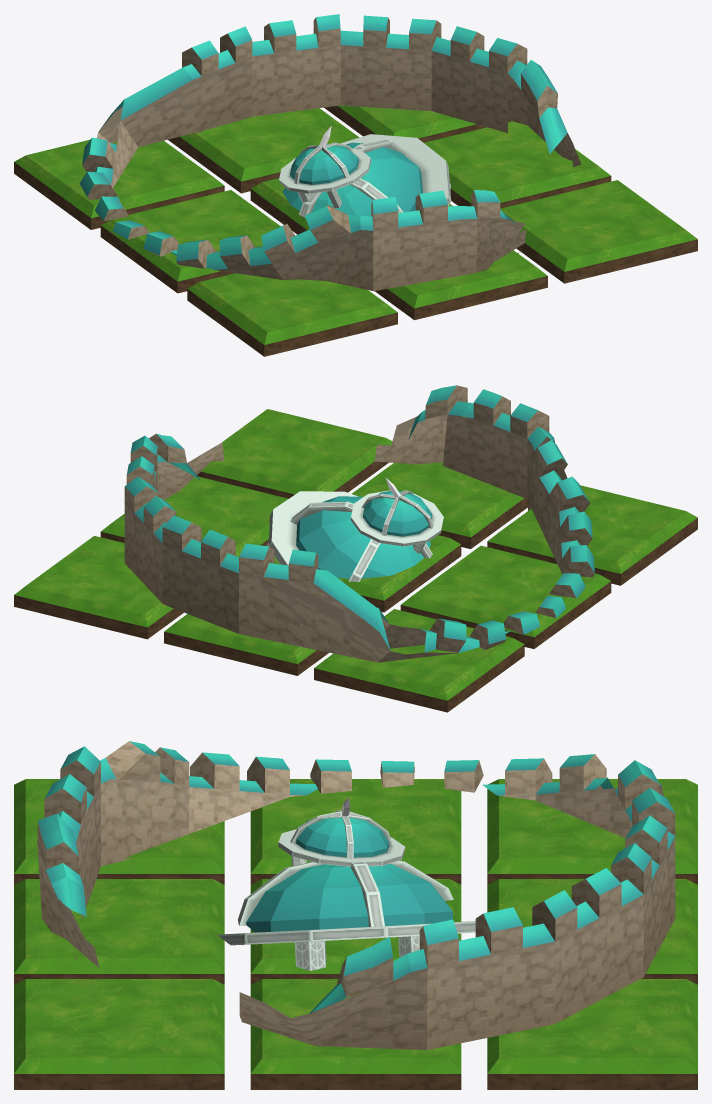
Rendered from Ruins.fbx.
3 renders of one model, top to bottom at view 1: azimuth 30°, elevation 25°; view 2: azimuth 150°, elevation 25°; view 3: azimuth 270°, elevation 25°, orthographic. The views are drawn at different scales.
Parts seen in each view (by area): view 1: Ruins, LargeGrass7, LargeGrass1, LargeGrass8, LargeGrass3, LargeGrass6, LargeGrass2, LargeGrass4, LargeGrass9, LargeGrass5; view 2: Ruins, LargeGrass7, LargeGrass2, LargeGrass9, LargeGrass3, LargeGrass1, LargeGrass4, LargeGrass8, LargeGrass6, LargeGrass5; view 3: Ruins, LargeGrass7, LargeGrass4, LargeGrass9, LargeGrass8, LargeGrass2, LargeGrass3, LargeGrass1, LargeGrass6, LargeGrass5.
Boxes of the visible parts, <box> form: Ruins: <box>79,14,581,291</box>; LargeGrass7: <box>500,180,697,283</box>; LargeGrass1: <box>187,273,397,356</box>; LargeGrass8: <box>424,121,611,208</box>; LargeGrass3: <box>14,138,224,229</box>; LargeGrass6: <box>168,108,359,193</box>; LargeGrass2: <box>100,190,280,293</box>; LargeGrass4: <box>375,250,547,320</box>; LargeGrass9: <box>324,105,511,142</box>; LargeGrass5: <box>250,178,452,234</box>; Ruins: <box>124,385,594,662</box>; LargeGrass7: <box>197,409,392,498</box>; LargeGrass2: <box>400,545,611,648</box>; LargeGrass9: <box>14,536,183,639</box>; LargeGrass3: <box>314,609,524,712</box>; LargeGrass1: <box>487,485,697,585</box>; LargeGrass4: <box>352,462,527,548</box>; LargeGrass8: <box>100,476,288,556</box>; LargeGrass6: <box>164,614,328,675</box>; LargeGrass5: <box>274,535,461,612</box>; Ruins: <box>37,741,675,1050</box>; LargeGrass7: <box>14,979,224,1089</box>; LargeGrass4: <box>14,879,224,984</box>; LargeGrass9: <box>487,979,697,1089</box>; LargeGrass8: <box>250,979,461,1089</box>; LargeGrass2: <box>250,779,461,884</box>; LargeGrass3: <box>487,779,697,884</box>; LargeGrass1: <box>14,779,224,884</box>; LargeGrass6: <box>487,879,697,984</box>; LargeGrass5: <box>250,879,461,984</box>.
Bounding box in the file's own units: 585 × 134 × 578.
3 materials, 3 textured.
